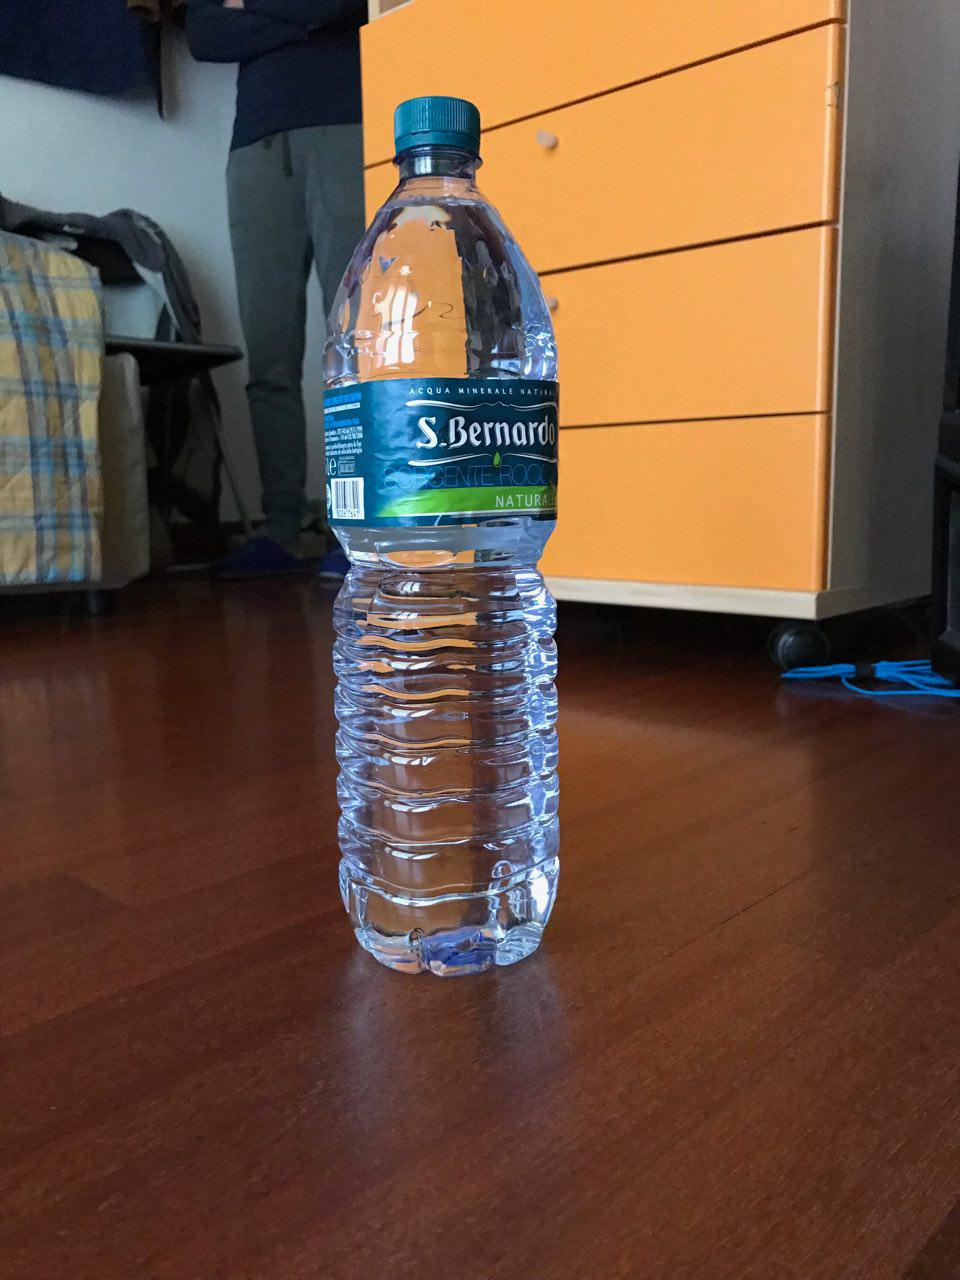san_bernardo: (319, 94, 565, 979)
